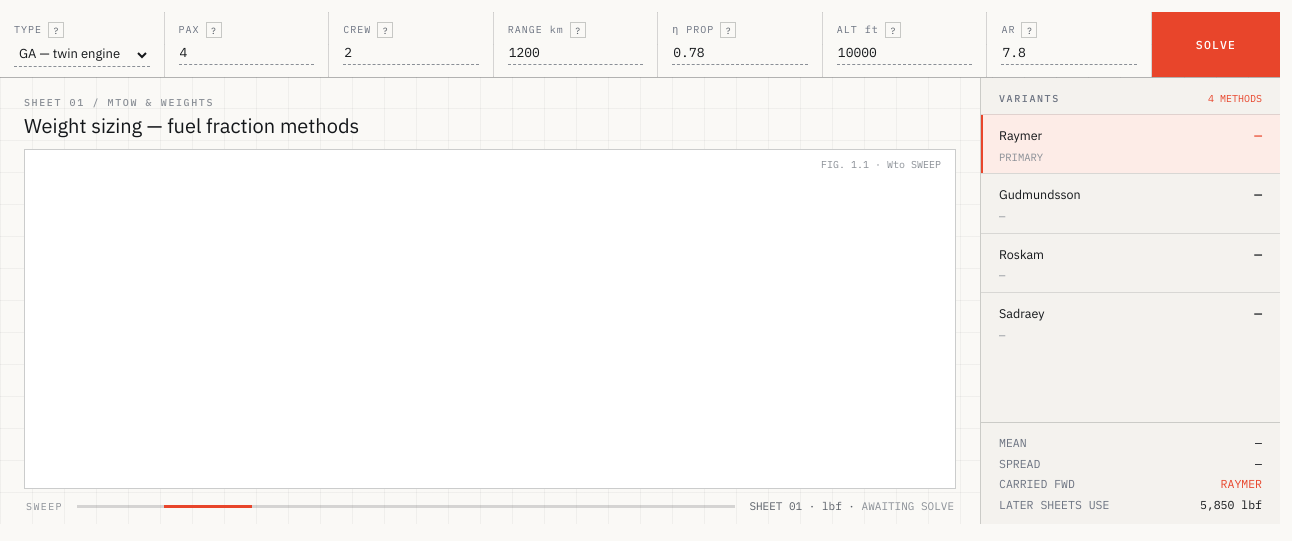
Test: SOLVE goes quiet once the figure matches the inputs
This screenshot has width=1292, height=541.
Click the button "SOLVE" at coordinates (1216, 44), box top-left (1152, 12), bottom-right (1280, 77)
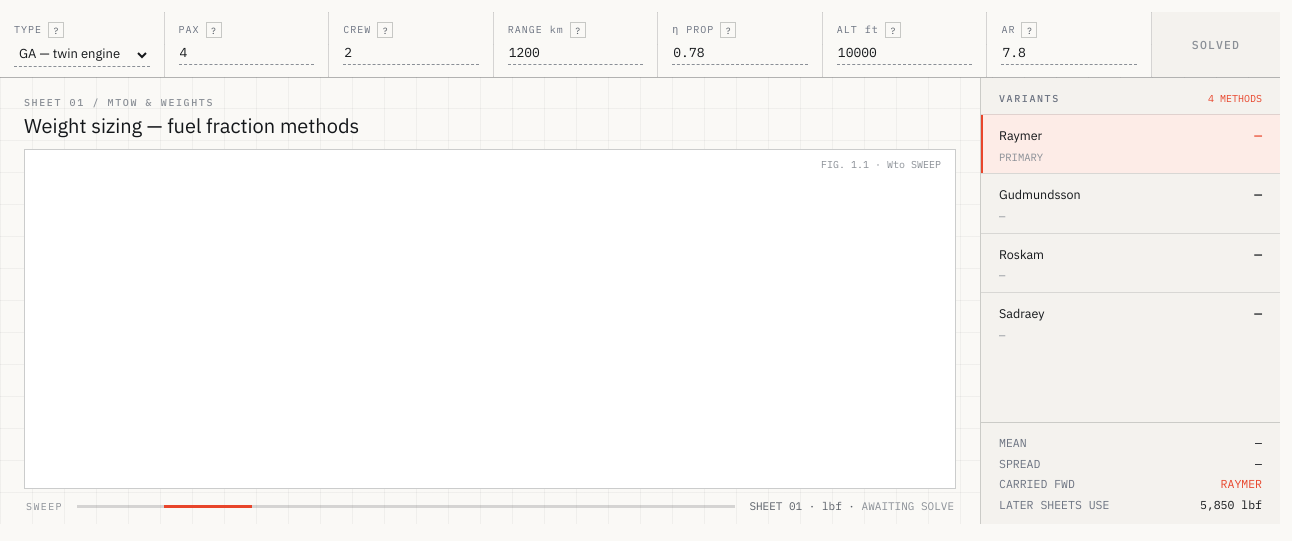
Check: the button "SOLVED" is shown, box top-left (1152, 12), bottom-right (1280, 77)
Check: the button "SOLVED" is disabled, box top-left (1152, 12), bottom-right (1280, 77)
Type "0" into the number field with id "range" at coordinates (576, 54), box top-left (508, 44), bottom-right (643, 65)
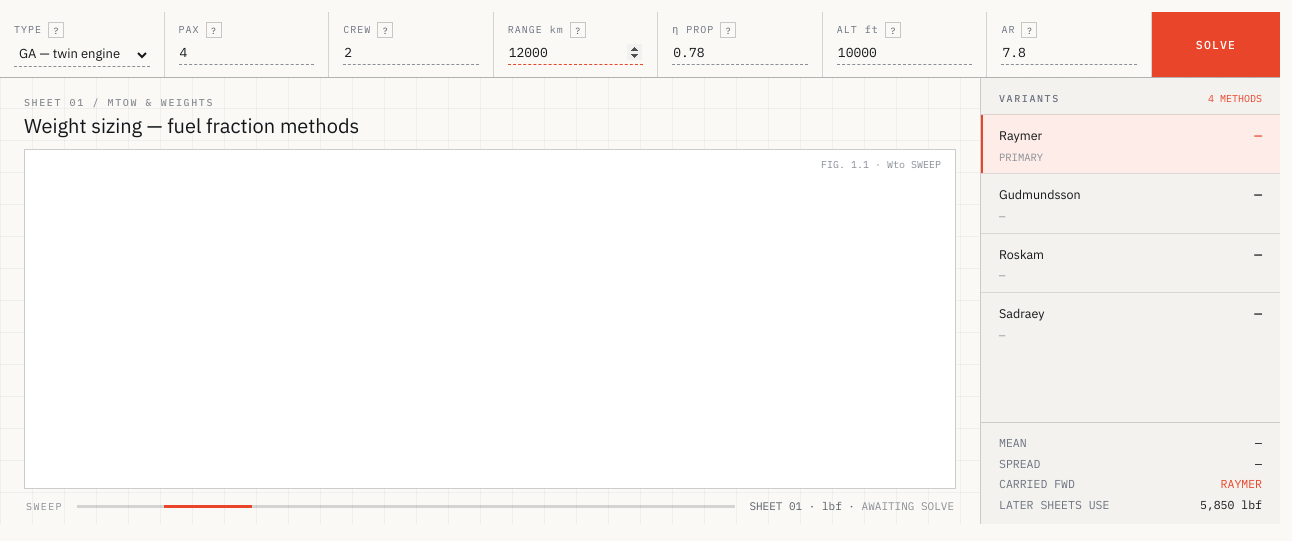
Check: the button "SOLVE" is shown, box top-left (1152, 12), bottom-right (1280, 77)
Check: the button "SOLVE" is enabled, box top-left (1152, 12), bottom-right (1280, 77)
